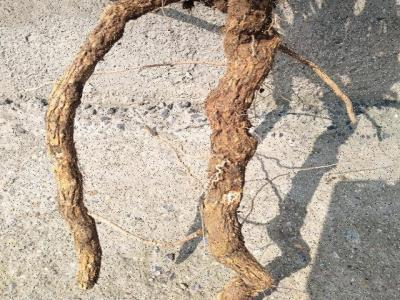Root: (194, 0, 355, 300), (46, 0, 178, 289)
